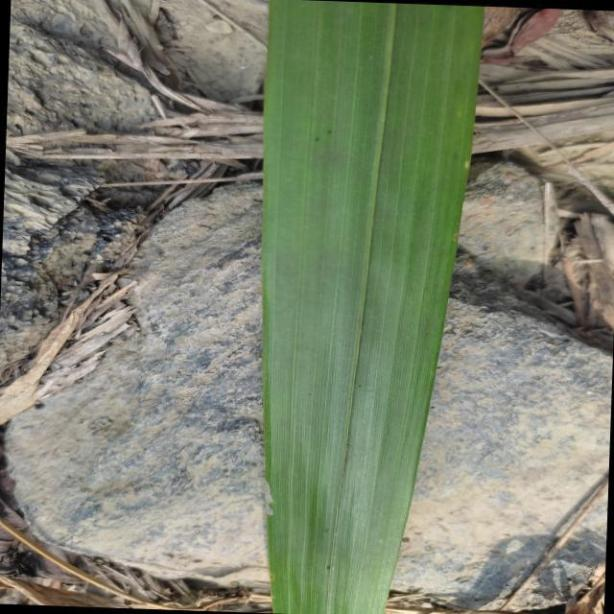Healthy: (262, 1, 482, 614)
